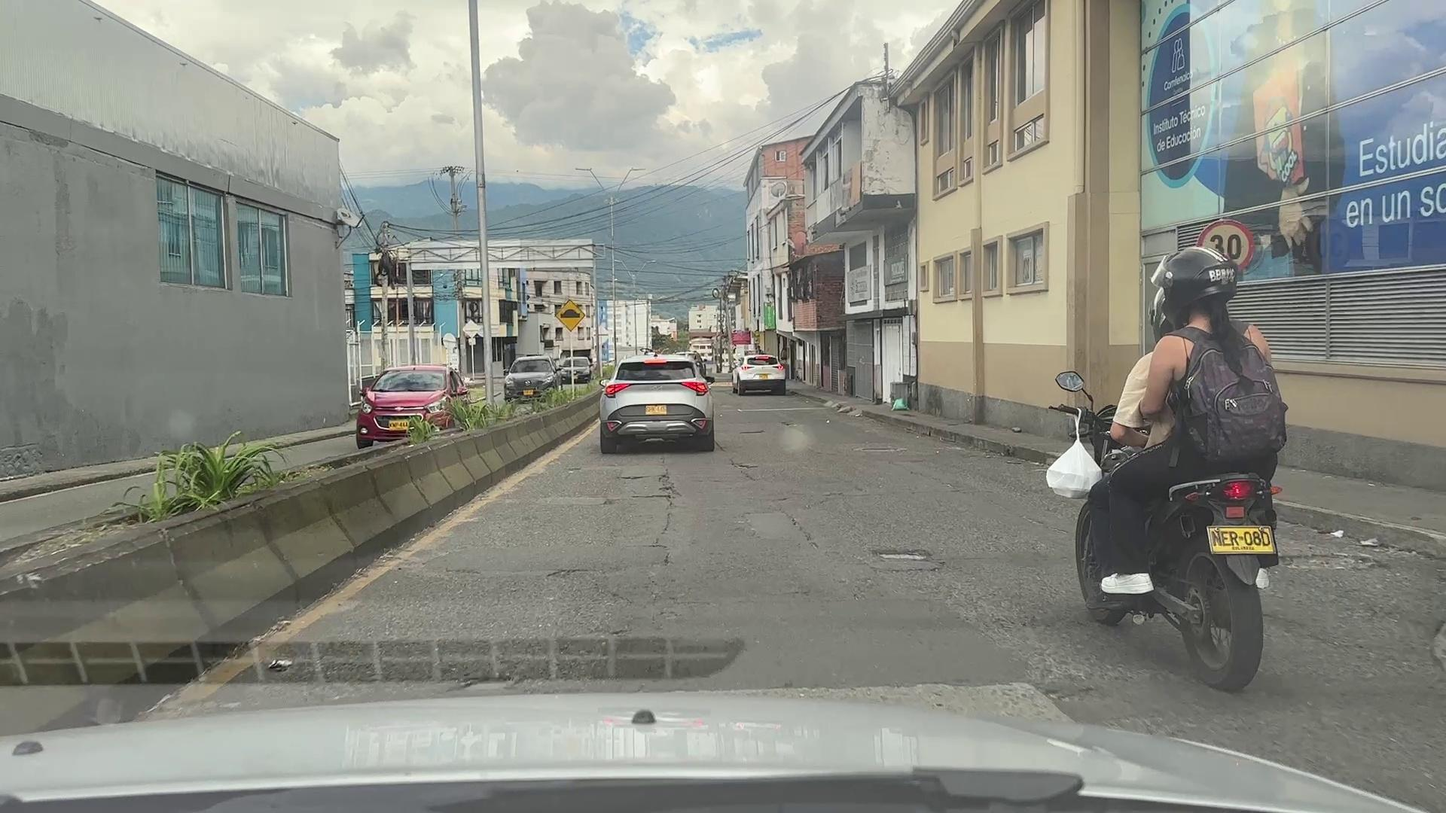bache: (876, 552, 926, 559), (731, 463, 759, 469), (739, 429, 765, 434), (617, 476, 650, 479)
grieta: (632, 469, 682, 510), (627, 538, 673, 566), (785, 513, 818, 550), (661, 513, 671, 534)
registro: (861, 448, 897, 450)
